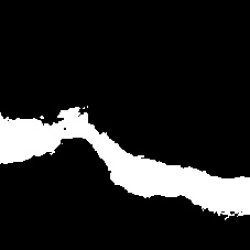crack: (2, 107, 246, 218)
